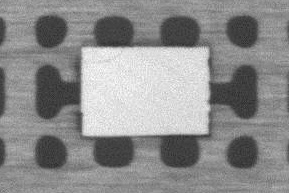DIE_CRACK: (86, 47, 125, 62)
